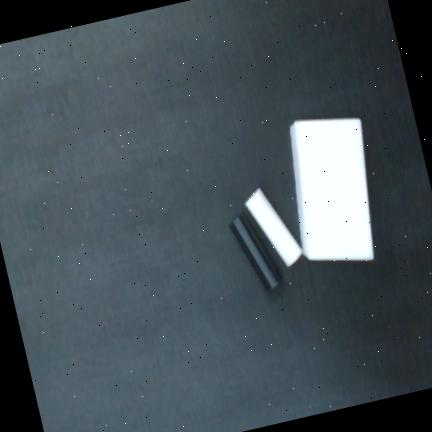Cilindro: (244, 187, 303, 267), (230, 214, 281, 290)
Paralelepipedo: (290, 117, 375, 261)
